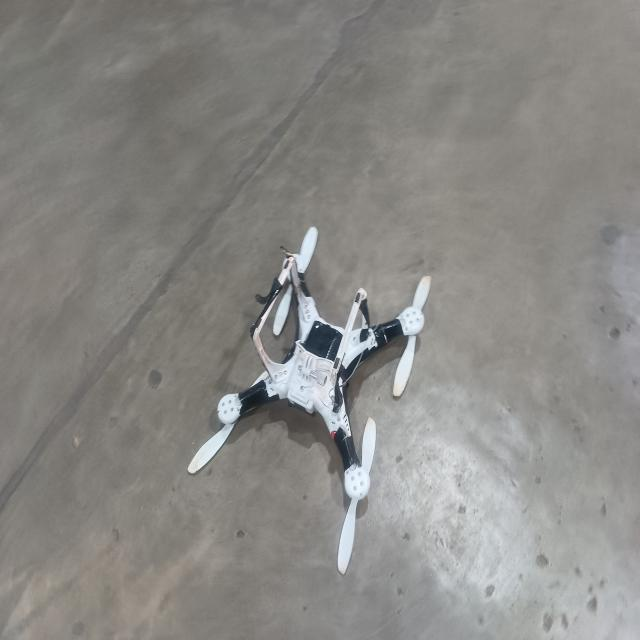drone: (173, 205, 444, 575)
